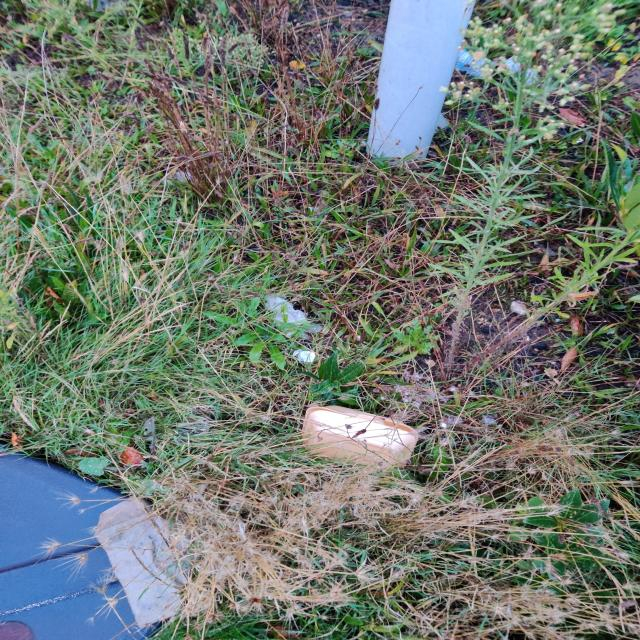litter: (96, 495, 196, 628), (301, 405, 419, 470), (265, 294, 322, 340), (455, 48, 494, 77), (288, 349, 317, 363)
